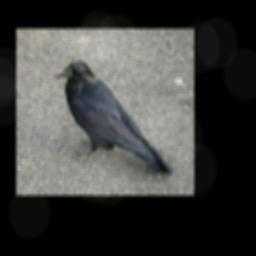Crow: (53, 60, 174, 176)
